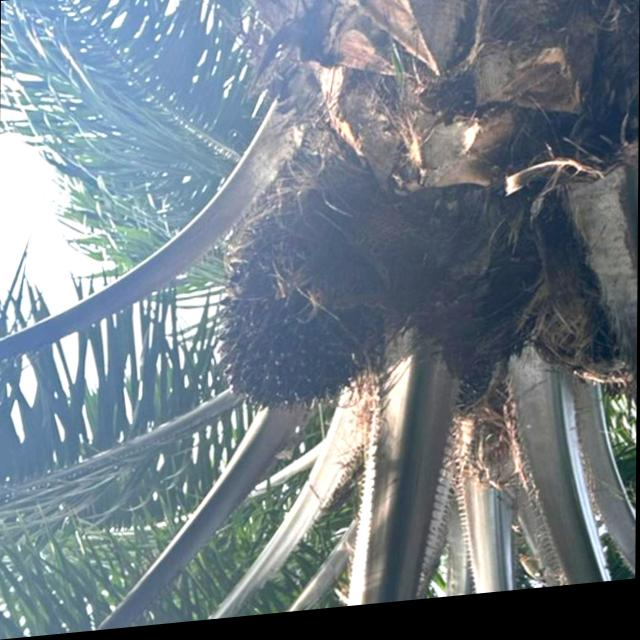almost: (209, 211, 388, 429)
